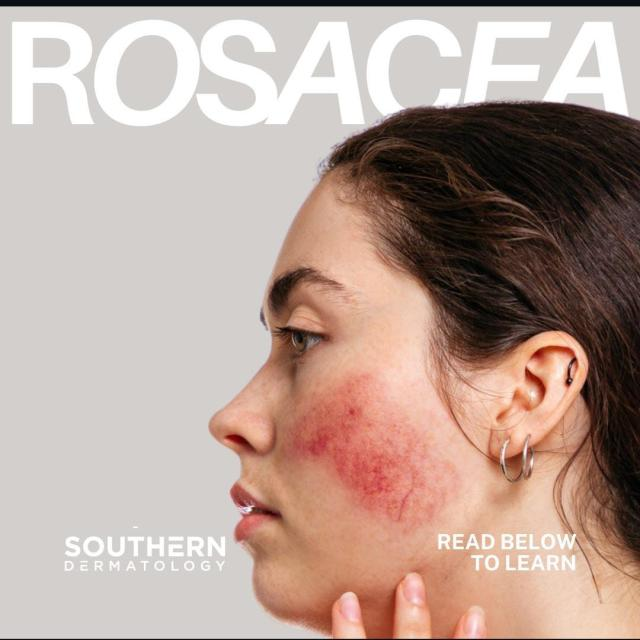Rosacea: (289, 384, 457, 515)
